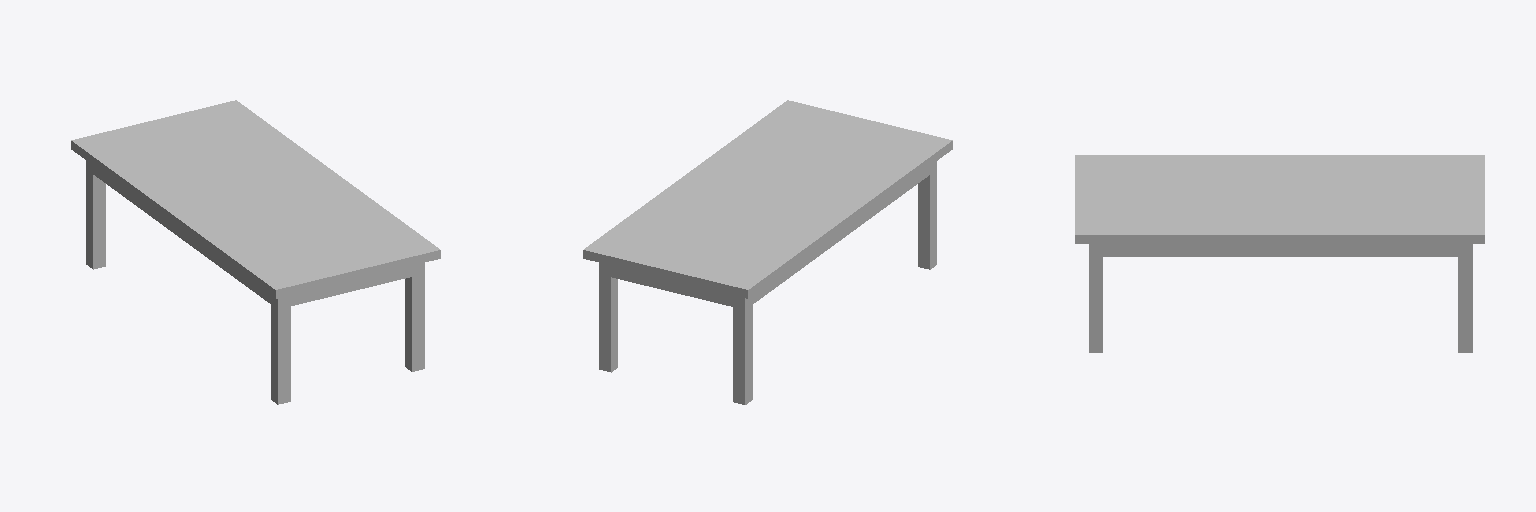
File: simpletable.obj
3 views of the same model, side by side, from view 1: azimuth 30°, elevation 25°; view 2: azimuth 150°, elevation 25°; view 3: azimuth 270°, elevation 25° (orthographic).
Visible parts, largest first — view 1: defaultMaterial; view 2: defaultMaterial; view 3: defaultMaterial.
Part boxes in pixels (left/top/right/bottom): defaultMaterial: left=71, top=100, right=440, bottom=404; defaultMaterial: left=583, top=100, right=952, bottom=404; defaultMaterial: left=1075, top=155, right=1484, bottom=352.
Bounding box in the file's own units: 0.9328 × 0.657 × 2.